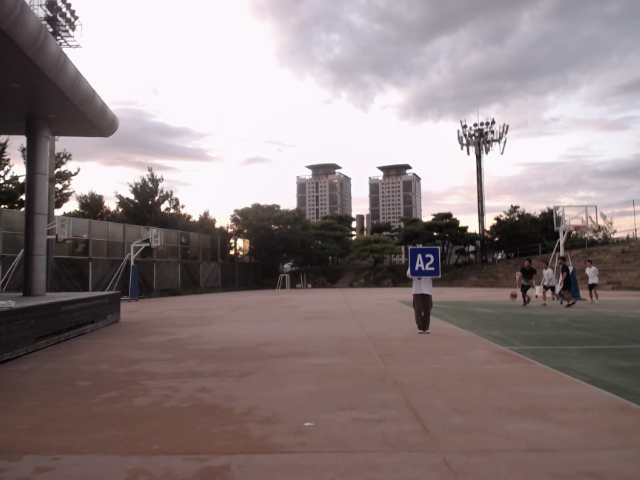delivery_a2: (408, 247, 440, 277)
